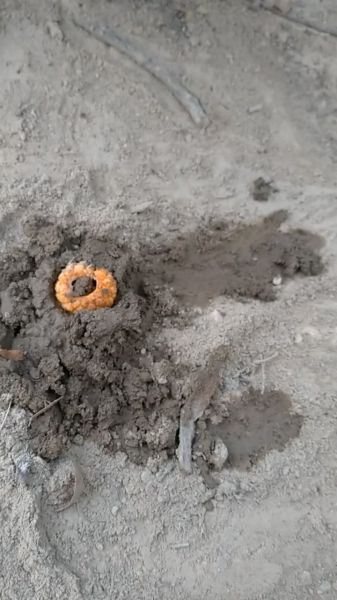eggs: (50, 254, 129, 322)
